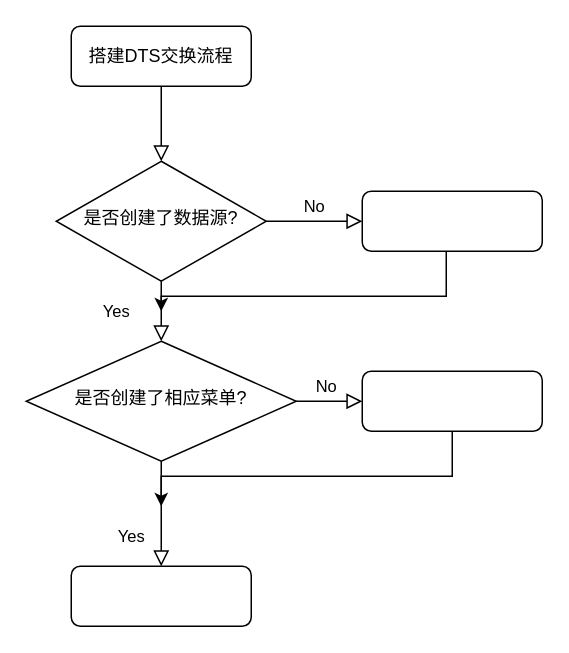
Some shapes in this 569 by 653 pixel diagram are drawn without their labels. Each missing label, with the centre of its shape:
"创建数据源" goes at [451,220].
"创建菜单" goes at [451,400].
